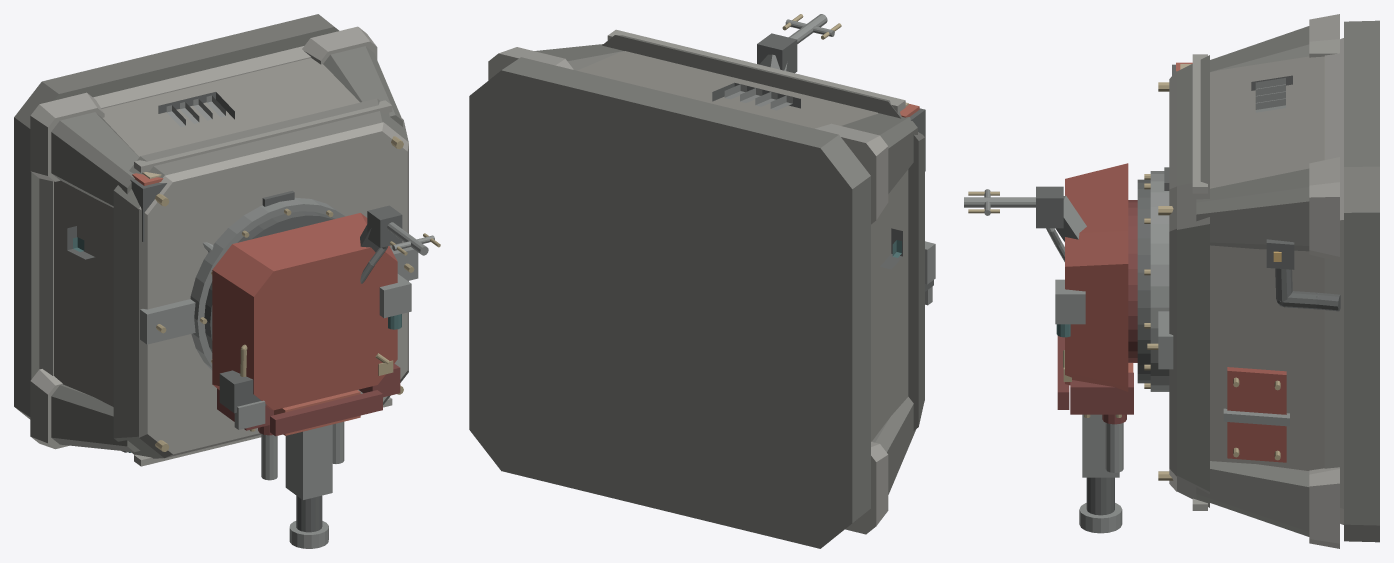
File: martian_heavy_weapon_bunker_source_geometry_v04.glb
3 renders of one model, left to right at view 1: azimuth 30°, elevation 25°; view 2: azimuth 150°, elevation 25°; view 3: azimuth 270°, elevation 25°, orthographic. The views are drawn at different scales.
Parts seen in each view (by area): view 1: 05_top_concrete_skin, 16_martian_red_turret_armor, 03_monolithic_bunker_mass, 01_foundation_granular_ferrocrete, 04_upper_blast_cap, 02_lower_blast_raft, 06_corner_armor_buttress_WN, 06_corner_armor_buttress_WS, 13_ring_lower_bearing_seat, 21_gun_tube_outer_shroud, 07_corner_buttress_foot_WN, 06_corner_armor_buttress_EN (+20 smaller); view 2: 01_foundation_granular_ferrocrete, 03_monolithic_bunker_mass, 04_upper_blast_cap, 07_corner_buttress_foot_WN, 06_corner_armor_buttress_WN, 06_corner_armor_buttress_WS, 07_corner_buttress_foot_WS, 54_north_slab_anchor_strip, 31_antenna_base, 06_corner_armor_buttress_EN, 07_corner_buttress_foot_EN; view 3: 03_monolithic_bunker_mass, 01_foundation_granular_ferrocrete, 04_upper_blast_cap, 16_martian_red_turret_armor, 06_corner_armor_buttress_EN, 02_lower_blast_raft, 06_corner_armor_buttress_ES, 55_east_wall_controller_armor, 13_ring_lower_bearing_seat, 05_top_concrete_skin, 07_corner_buttress_foot_EN, 14_ring_open_bearing_race (+20 smaller).
Boxes of the visible parts, x1,y1,x2,y2 form: 05_top_concrete_skin: (139,122,408,458); 16_martian_red_turret_armor: (212,213,397,410); 03_monolithic_bunker_mass: (54,58,359,406); 01_foundation_granular_ferrocrete: (14,14,339,419); 04_upper_blast_cap: (113,98,408,458); 02_lower_blast_raft: (39,46,311,375); 06_corner_armor_buttress_WN: (51,112,139,207); 06_corner_armor_buttress_WS: (51,384,140,452); 13_ring_lower_bearing_seat: (190,197,345,370); 21_gun_tube_outer_shroud: (285,424,332,499); 07_corner_buttress_foot_WN: (30,92,104,181); 06_corner_armor_buttress_EN: (323,46,402,126); 01_foundation_granular_ferrocrete: (469,57,870,548); 03_monolithic_bunker_mass: (577,51,908,441); 04_upper_blast_cap: (602,35,924,430); 07_corner_buttress_foot_WN: (815,123,888,224); 06_corner_armor_buttress_WN: (842,113,917,193); 06_corner_armor_buttress_WS: (872,397,915,494); 07_corner_buttress_foot_WS: (845,441,888,534); 54_north_slab_anchor_strip: (607,29,905,112); 31_antenna_base: (757,33,797,73); 06_corner_armor_buttress_EN: (534,44,623,70); 07_corner_buttress_foot_EN: (488,47,573,80); 03_monolithic_bunker_mass: (1210,56,1324,470); 01_foundation_granular_ferrocrete: (1344,20,1379,542); 04_upper_blast_cap: (1177,55,1209,507); 16_martian_red_turret_armor: (1065,163,1128,391); 06_corner_armor_buttress_EN: (1196,168,1309,251); 02_lower_blast_raft: (1324,38,1343,524); 06_corner_armor_buttress_ES: (1196,461,1309,536); 55_east_wall_controller_armor: (1227,367,1286,462); 13_ring_lower_bearing_seat: (1150,171,1169,391); 05_top_concrete_skin: (1169,71,1176,491); 07_corner_buttress_foot_EN: (1309,157,1339,262); 14_ring_open_bearing_race: (1137,179,1150,383).
Bounding box in the file's own units: 3.04 × 3.44 × 3.01.
